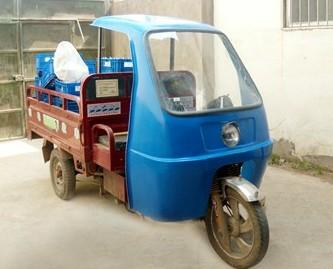tricycle: (31, 17, 282, 267)
